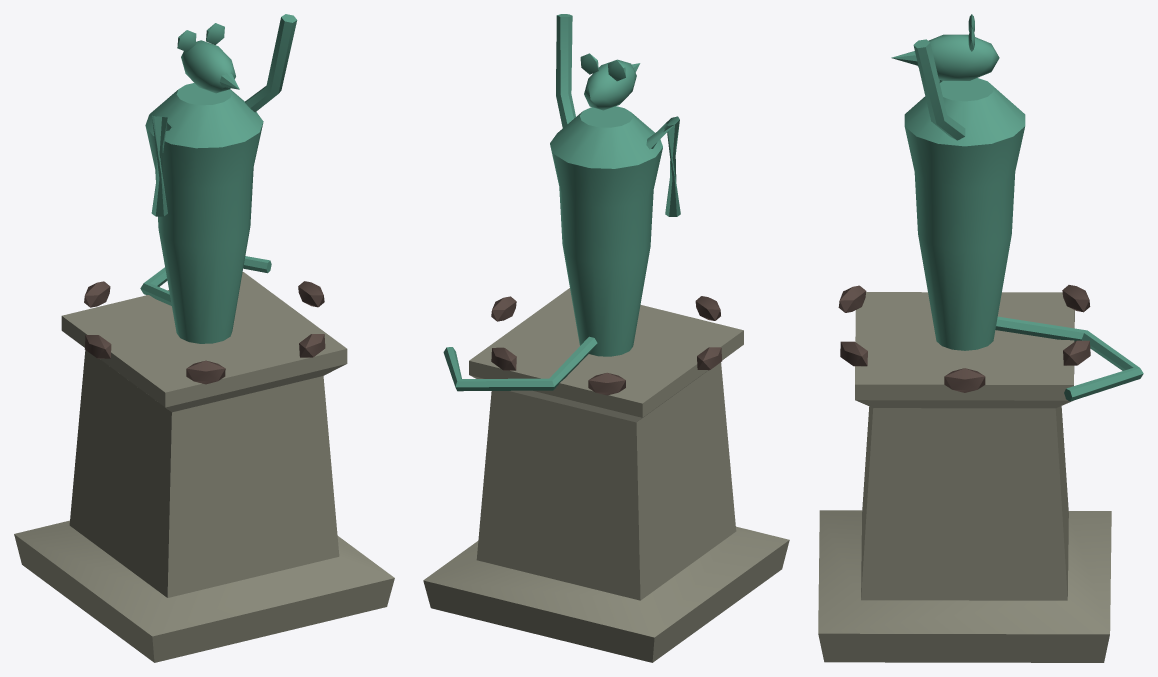
File: rat_statue.glb
The picture shows the model from 3 angles, left to right: view 1: azimuth 30°, elevation 25°; view 2: azimuth 150°, elevation 25°; view 3: azimuth 270°, elevation 25°; orthographic projection. The views are drawn at different scales.
Parts seen in each view (by area): view 1: rat_statue; view 2: rat_statue; view 3: rat_statue.
Part boxes in pixels (<box>): rat_statue: <box>14,14,394,662</box>; rat_statue: <box>423,14,789,662</box>; rat_statue: <box>818,14,1143,662</box>.
Bounding box in the file's own units: 3.41 × 7.62 × 3.79.
